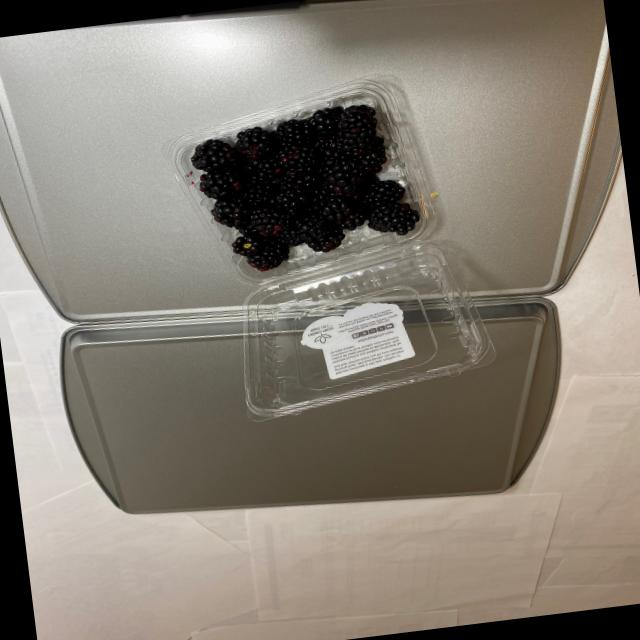blackberries: (187, 110, 439, 284)
